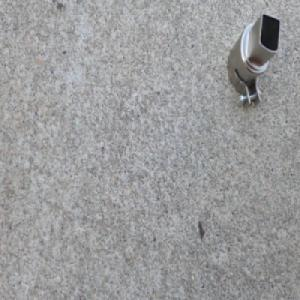MetalPart: (226, 11, 282, 112)
